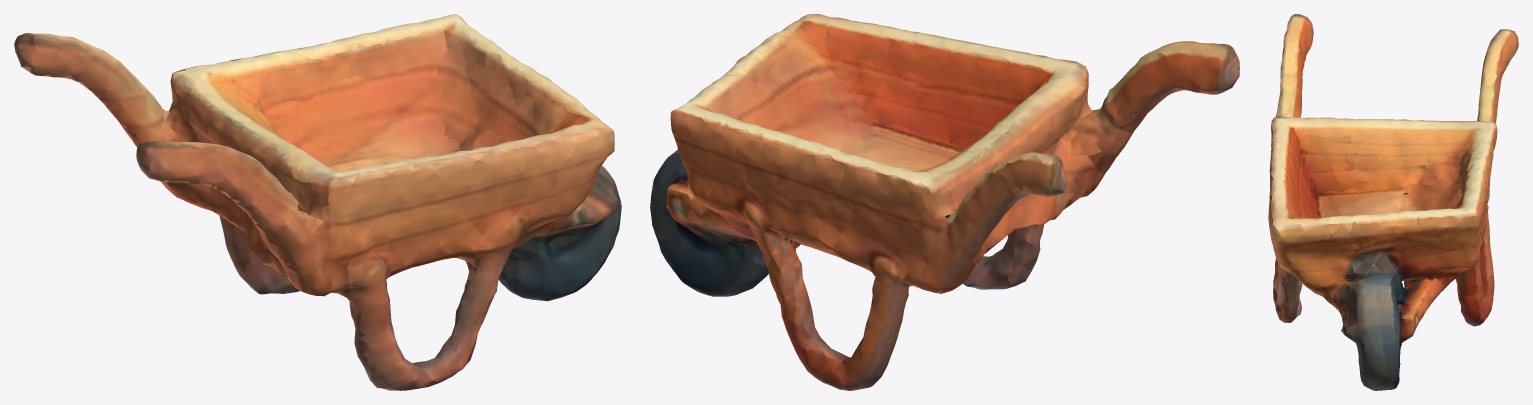
The model's file is carretilla.fbx.
3 renders of one model, left to right at view 1: azimuth 30°, elevation 25°; view 2: azimuth 150°, elevation 25°; view 3: azimuth 270°, elevation 25°, orthographic. The views are drawn at different scales.
Visible parts, largest first — view 1: world; view 2: world; view 3: world.
Boxes of the visible parts, x1=… form: world: x1=14, y1=14, x2=621, y2=390; world: x1=650, y1=14, x2=1239, y2=390; world: x1=1268, y1=14, x2=1518, y2=390.
Bounding box in the file's own units: 93.94 × 52.65 × 54.92.
Materials: 1 (1 with a texture image).
